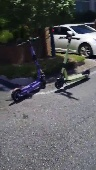beam: (11, 35, 48, 102)
gcooter: (54, 34, 92, 90)
